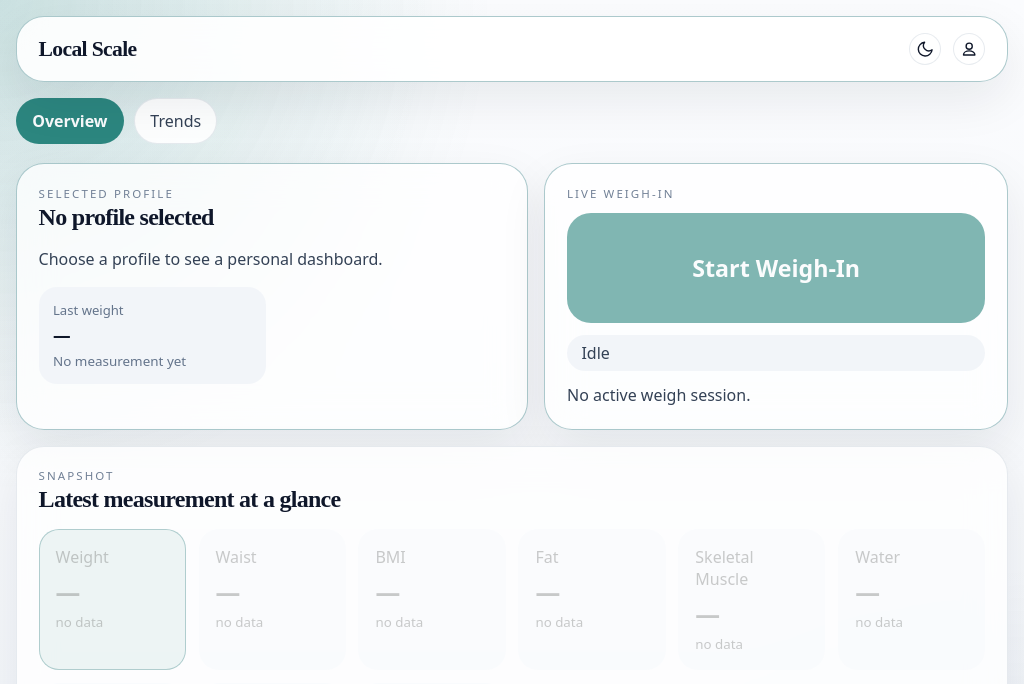
Test: App › remembers the selected profile from localStorage
Click the button named "Open user menu" at (969, 49), box [953,33,985,65]
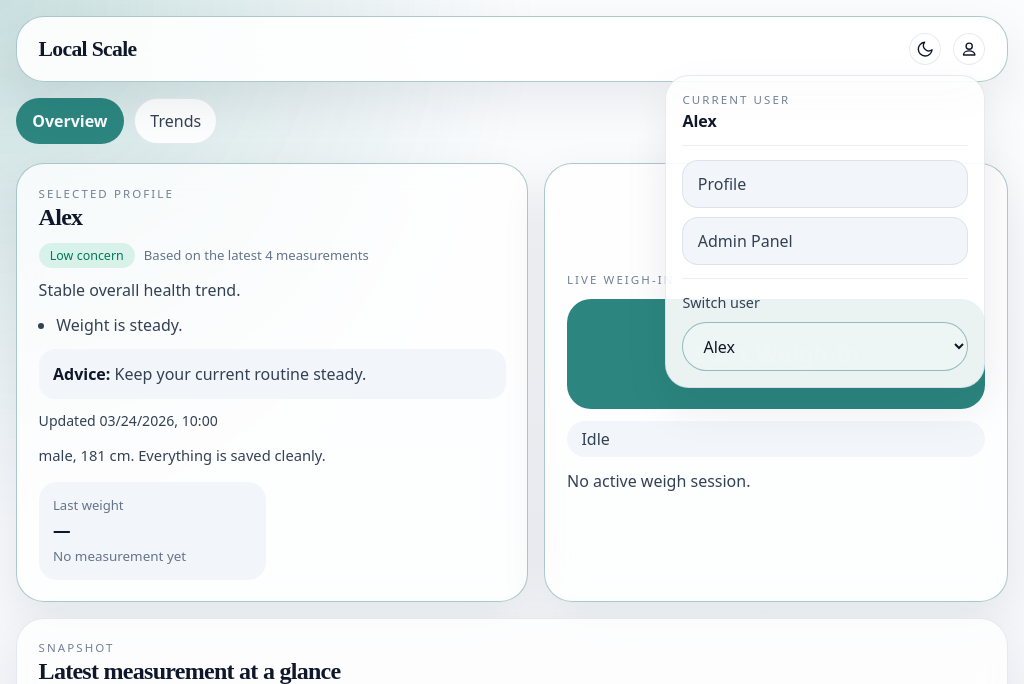
Result: the dropdown shows "Alex" at [682,322,968,371]
